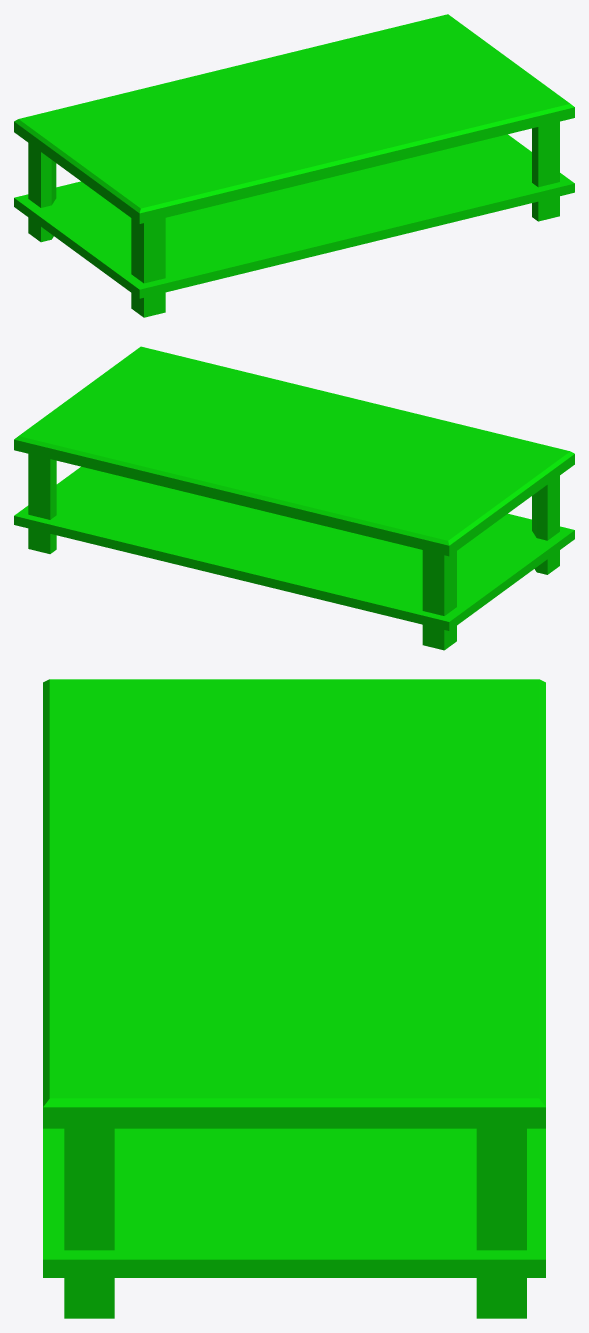
Rendered from MesaRatona01.fbx.
The picture shows the model from 3 angles, top to bottom: view 1: azimuth 30°, elevation 25°; view 2: azimuth 150°, elevation 25°; view 3: azimuth 270°, elevation 25°; orthographic projection. The views are drawn at different scales.
Parts seen in each view (by area): view 1: pCube268; view 2: pCube268; view 3: pCube268.
Boxes of the visible parts, x1=… form: pCube268: x1=14, y1=14, x2=574, y2=317; pCube268: x1=14, y1=346, x2=574, y2=650; pCube268: x1=43, y1=679, x2=545, y2=1318.
Size of the model in its own units: 2 by 0.4983 by 1.
